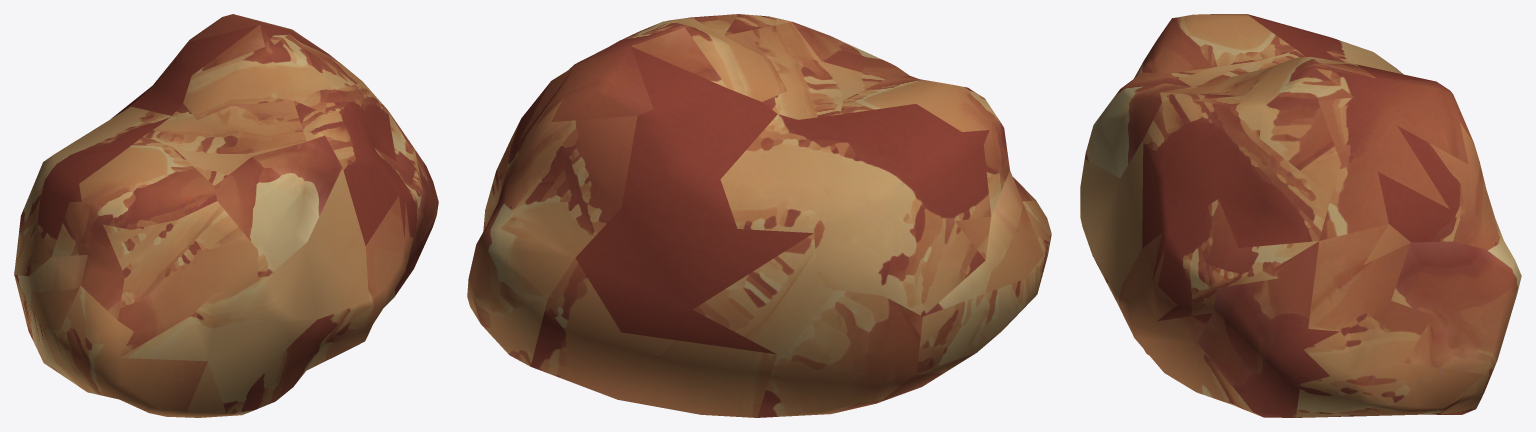
Rendered from Rock_10.fbx.
3 renders of one model, left to right at view 1: azimuth 30°, elevation 25°; view 2: azimuth 150°, elevation 25°; view 3: azimuth 270°, elevation 25°, orthographic. The views are drawn at different scales.
Parts seen in each view (by area): view 1: tripo_node_92168268; view 2: tripo_node_92168268; view 3: tripo_node_92168268.
Part boxes in pixels (x1,y1,x2,y2): tripo_node_92168268: (14, 14, 438, 417); tripo_node_92168268: (467, 14, 1051, 417); tripo_node_92168268: (1080, 14, 1521, 417).
Size of the model in its own units: 0.998 by 0.6699 by 0.7793.
